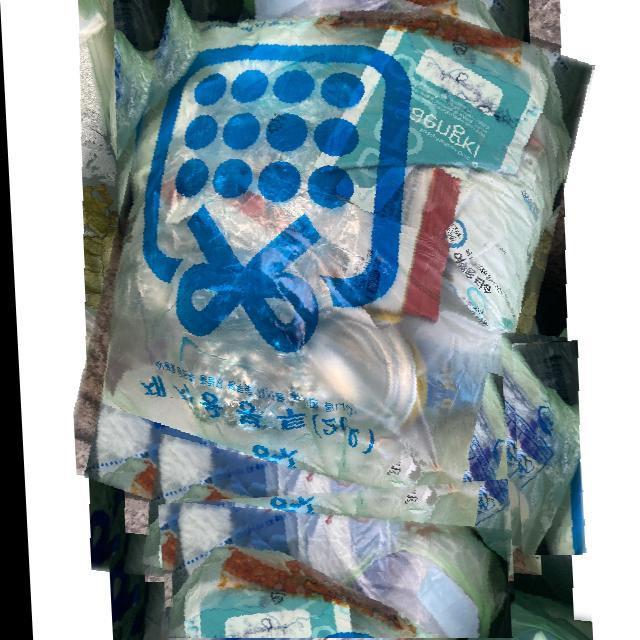general_trashbag: (70, 0, 593, 611), (160, 499, 505, 639), (508, 341, 581, 555)
